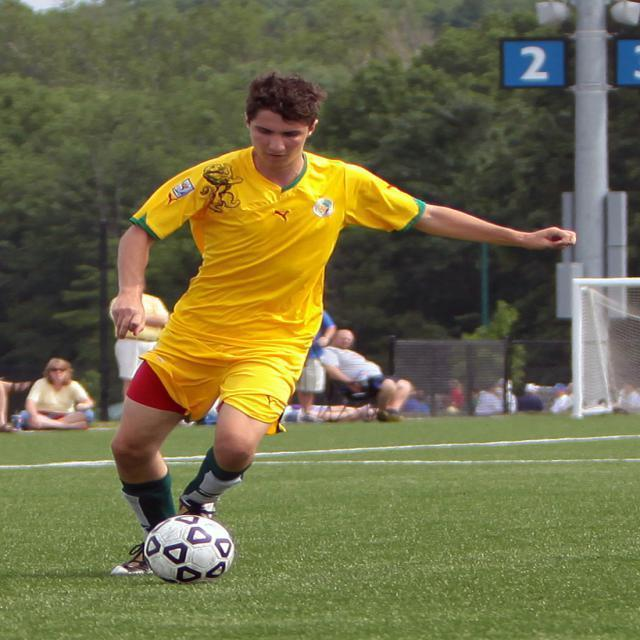football: (126, 512, 256, 587)
